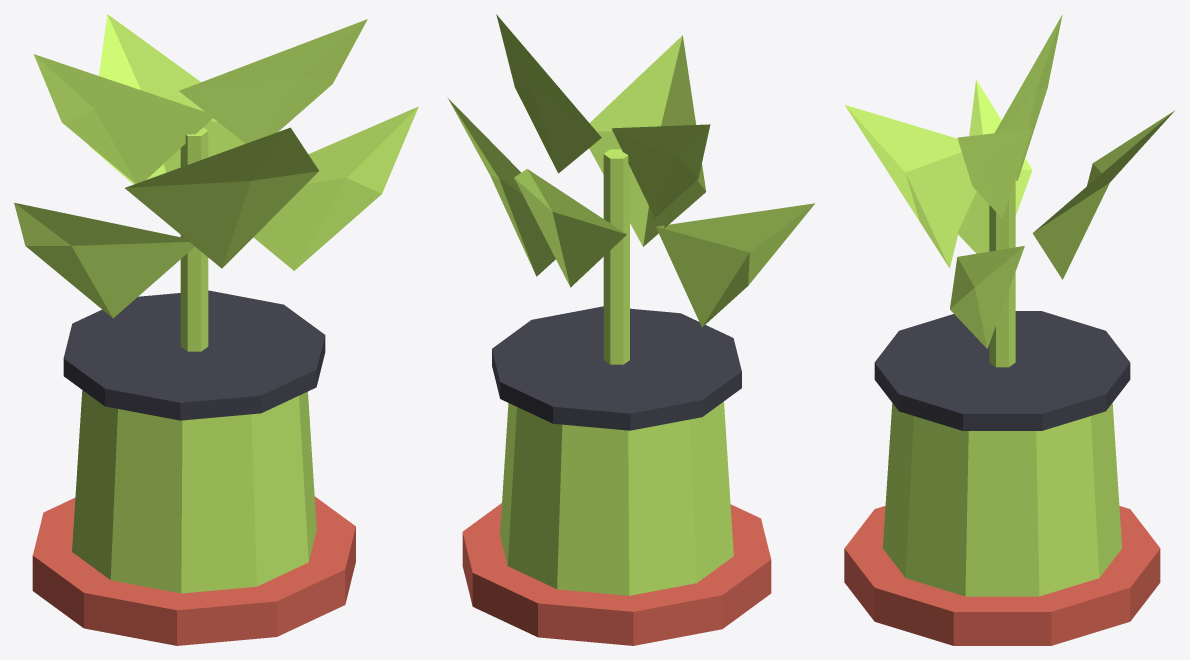
The model's file is potted-plant.obj.
3 views of the same model, side by side, from view 1: azimuth 30°, elevation 25°; view 2: azimuth 150°, elevation 25°; view 3: azimuth 270°, elevation 25° (orthographic). The views are drawn at different scales.
Parts seen in each view (by area): view 1: tapered-planter, soft-soil, cozy-pot-saucer, leaf-1, leaf-5, leaf-3, leaf-4, leaf-6, leaf-2, main-stem; view 2: tapered-planter, soft-soil, cozy-pot-saucer, leaf-3, leaf-1, leaf-2, leaf-5, leaf-6, main-stem, leaf-4; view 3: tapered-planter, soft-soil, cozy-pot-saucer, leaf-1, leaf-2, leaf-4, leaf-6, leaf-3, main-stem, leaf-5.
Boxes of the visible parts, <box> form: tapered-planter: <box>72,390,316,593</box>; soft-soil: <box>63,290,325,420</box>; cozy-pot-saucer: <box>32,496,355,645</box>; leaf-1: <box>125,127,318,268</box>; leaf-5: <box>33,54,215,183</box>; leaf-3: <box>14,202,194,318</box>; leaf-4: <box>253,106,418,270</box>; leaf-6: <box>179,19,367,143</box>; leaf-2: <box>89,14,245,184</box>; main-stem: <box>180,127,208,351</box>; tapered-planter: <box>500,401,733,595</box>; soft-soil: <box>492,306,741,430</box>; cozy-pot-saucer: <box>462,503,771,645</box>; leaf-3: <box>656,203,814,327</box>; leaf-1: <box>589,35,706,246</box>; leaf-2: <box>514,169,626,287</box>; leaf-5: <box>611,124,710,217</box>; leaf-6: <box>496,14,601,173</box>; main-stem: <box>603,149,629,364</box>; leaf-4: <box>447,97,555,276</box>; tapered-planter: <box>882,403,1121,596</box>; soft-soil: <box>874,311,1130,430</box>; cozy-pot-saucer: <box>844,506,1160,645</box>; leaf-1: <box>845,105,970,268</box>; leaf-2: <box>1032,110,1174,279</box>; leaf-4: <box>950,246,1024,348</box>; leaf-6: <box>957,129,1032,218</box>; leaf-3: <box>957,79,1032,253</box>; main-stem: <box>989,180,1015,367</box>; leaf-5: <box>995,14,1062,181</box>.
Size of the model in its own units: 1.16 by 1.51 by 0.88.
